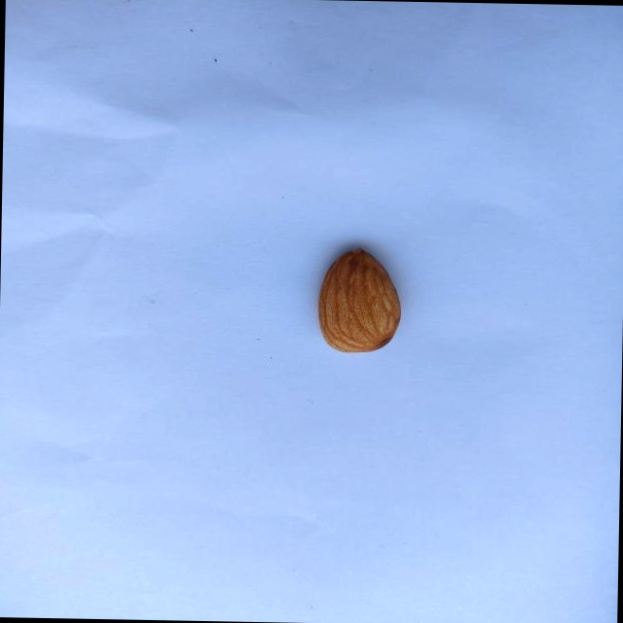grade1: (307, 240, 408, 360)
